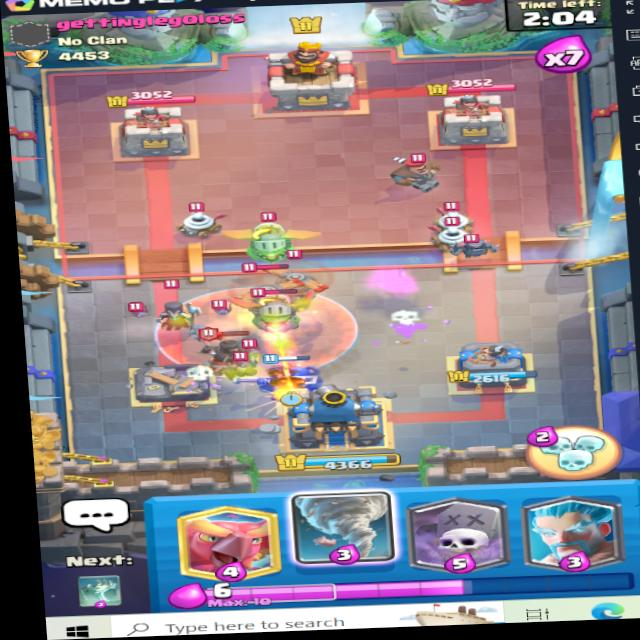bats: (227, 336, 262, 365), (200, 291, 231, 315), (126, 297, 156, 319)
dark-prince: (189, 317, 256, 375)
flying-machine: (262, 247, 337, 304)
hunter: (388, 143, 455, 193)
inferno-dragon: (240, 213, 306, 268), (239, 285, 312, 330)
mini-pekka: (445, 223, 504, 264)
night-witch: (151, 276, 195, 333)
zappie: (424, 214, 481, 250), (180, 198, 223, 234), (431, 193, 469, 233)
